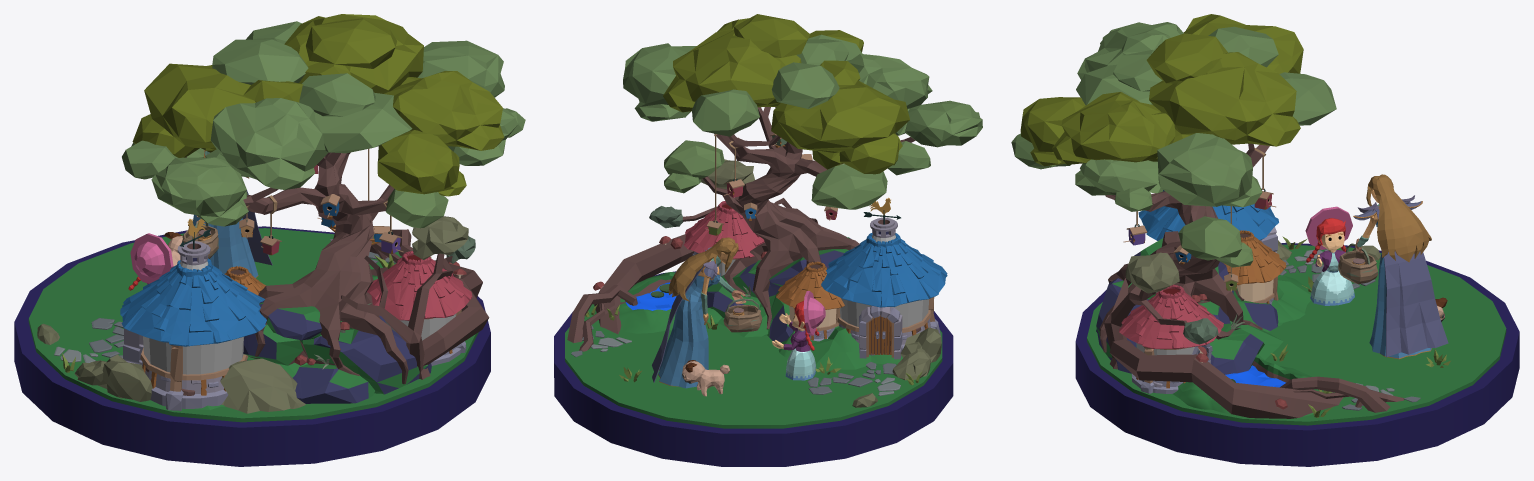
The model's file is JinruGuodu_chai.FBX.
3 views of the same model, side by side, from view 1: azimuth 30°, elevation 25°; view 2: azimuth 150°, elevation 25°; view 3: azimuth 270°, elevation 25° (orthographic). The views are drawn at different scales.
Parts seen in each view (by area): view 1: Jinruguodu120, Jinruguodu121, Jinruguodu14, Jinruguodu15, Jinruguodu123, Jinruguodu91, Jinruguodu119, Jinruguodu124, Jinruguodu118, Jinruguodu33, Jinruguodu32, Jinruguodu92 (+13 smaller); view 2: Jinruguodu120, Jinruguodu15, Jinruguodu121, Jinruguodu14, Jinruguodu123, Jinruguodu91, Jinruguodu54, Jinruguodu27, Jinruguodu124, Jinruguodu10, Jinruguodu11, Jinruguodu119 (+23 smaller); view 3: Jinruguodu121, Jinruguodu14, Jinruguodu120, Jinruguodu15, Jinruguodu27, Jinruguodu55, Jinruguodu123, Jinruguodu124, Jinruguodu61, Jinruguodu119, Jinruguodu91, Jinruguodu118 (+14 smaller).
Boxes of the visible parts, left/top/right/bottom form: Jinruguodu120: left=122, top=21, right=525, bottom=228; Jinruguodu121: left=132, top=14, right=504, bottom=196; Jinruguodu14: left=14, top=226, right=490, bottom=466; Jinruguodu15: left=28, top=228, right=478, bottom=422; Jinruguodu123: left=186, top=152, right=408, bottom=384; Jinruguodu91: left=120, top=258, right=266, bottom=346; Jinruguodu119: left=243, top=300, right=431, bottom=403; Jinruguodu124: left=367, top=251, right=472, bottom=320; Jinruguodu118: left=244, top=302, right=427, bottom=397; Jinruguodu33: left=220, top=358, right=305, bottom=413; Jinruguodu32: left=341, top=253, right=452, bottom=379; Jinruguodu92: left=143, top=261, right=243, bottom=374; Jinruguodu120: left=623, top=34, right=982, bottom=209; Jinruguodu15: left=565, top=304, right=942, bottom=428; Jinruguodu121: left=663, top=14, right=909, bottom=174; Jinruguodu14: left=554, top=271, right=953, bottom=466; Jinruguodu123: left=702, top=107, right=915, bottom=329; Jinruguodu91: left=821, top=233, right=947, bottom=307; Jinruguodu54: left=658, top=272, right=720, bottom=388; Jinruguodu27: left=594, top=234, right=694, bottom=334; Jinruguodu124: left=683, top=201, right=764, bottom=258; Jinruguodu10: left=778, top=326, right=902, bottom=370; Jinruguodu11: left=595, top=272, right=722, bottom=333; Jinruguodu119: left=706, top=238, right=850, bottom=342; Jinruguodu121: left=1020, top=14, right=1303, bottom=166; Jinruguodu14: left=1075, top=242, right=1519, bottom=466; Jinruguodu120: left=1011, top=22, right=1336, bottom=267; Jinruguodu15: left=1087, top=244, right=1506, bottom=425; Jinruguodu27: left=1109, top=339, right=1343, bottom=418; Jinruguodu55: left=1375, top=203, right=1448, bottom=357; Jinruguodu123: left=1099, top=143, right=1269, bottom=352; Jinruguodu124: left=1119, top=284, right=1223, bottom=349; Jinruguodu61: left=1366, top=174, right=1431, bottom=262; Jinruguodu119: left=1096, top=251, right=1278, bottom=374; Jinruguodu91: left=1138, top=204, right=1278, bottom=240; Jinruguodu118: left=1096, top=238, right=1283, bottom=369.
Size of the model in its own units: 9.91 by 8.58 by 11.34.
